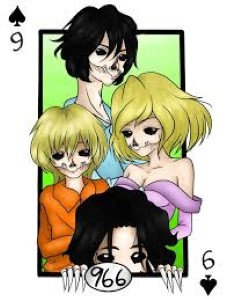NineOfSpades: (4, 2, 219, 297)
